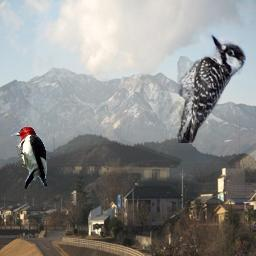Woodpecker: (157, 31, 246, 143), (10, 126, 47, 189)
